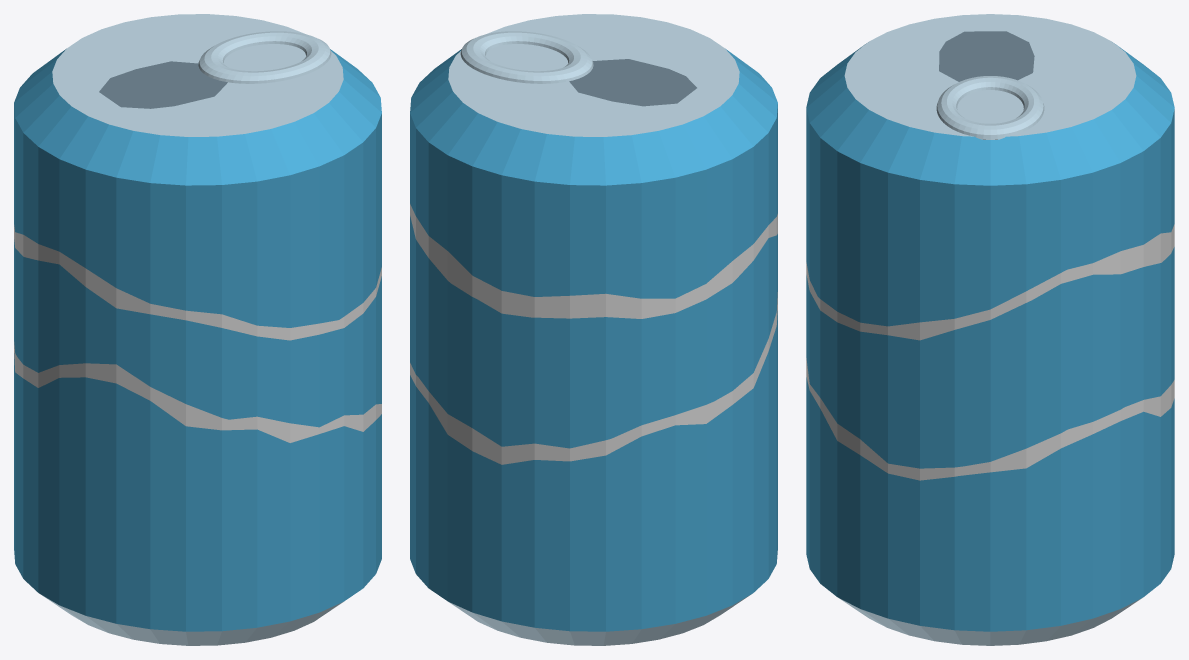
Rendered from soda2.fbx.
The picture shows the model from 3 angles, left to right: view 1: azimuth 30°, elevation 25°; view 2: azimuth 150°, elevation 25°; view 3: azimuth 270°, elevation 25°; orthographic projection.
Visible parts, largest first — view 1: Cylinder; view 2: Cylinder; view 3: Cylinder.
Part boxes in pixels (x1,y1,x2,y2): Cylinder: (14,14,381,645); Cylinder: (410,14,777,645); Cylinder: (806,14,1174,645).
Bounding box in the file's own units: 200 × 308 × 200.
